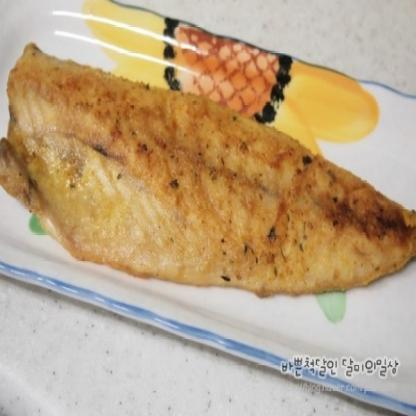Peixe: (0, 46, 416, 328)
